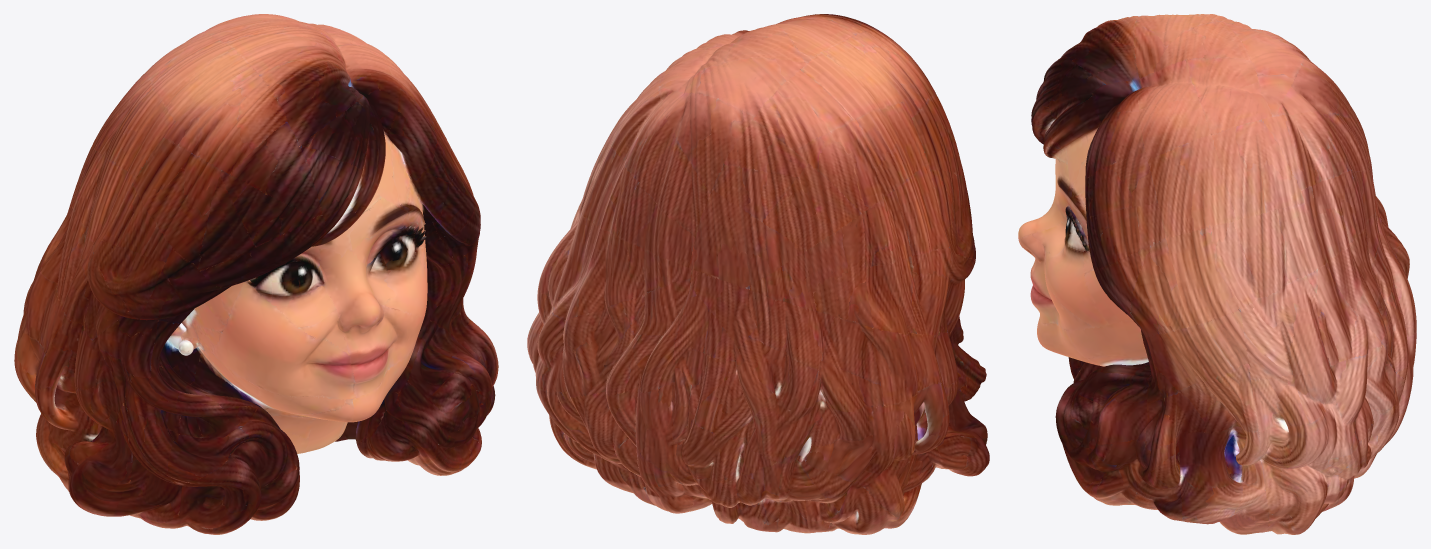
The model's file is planet-02.glb.
The picture shows the model from 3 angles, left to right: view 1: azimuth 30°, elevation 25°; view 2: azimuth 150°, elevation 25°; view 3: azimuth 270°, elevation 25°; orthographic projection. The views are drawn at different scales.
Bounding box in the file's own units: 1.8 × 1.9 × 1.55.
1 material, 1 textured.
